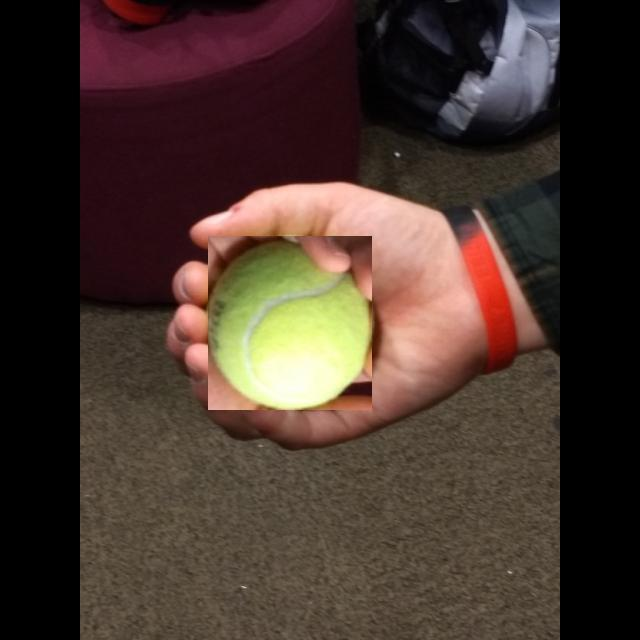tennis ball: (208, 236, 372, 410)
